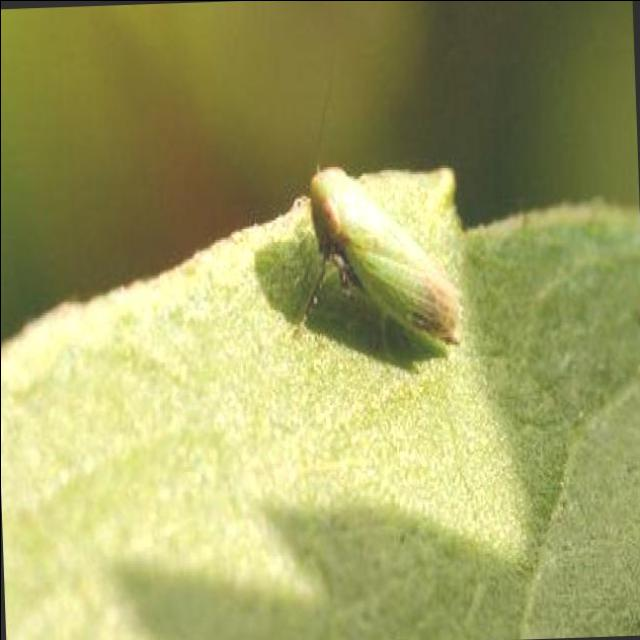green leaf hopper: (306, 167, 457, 344)
